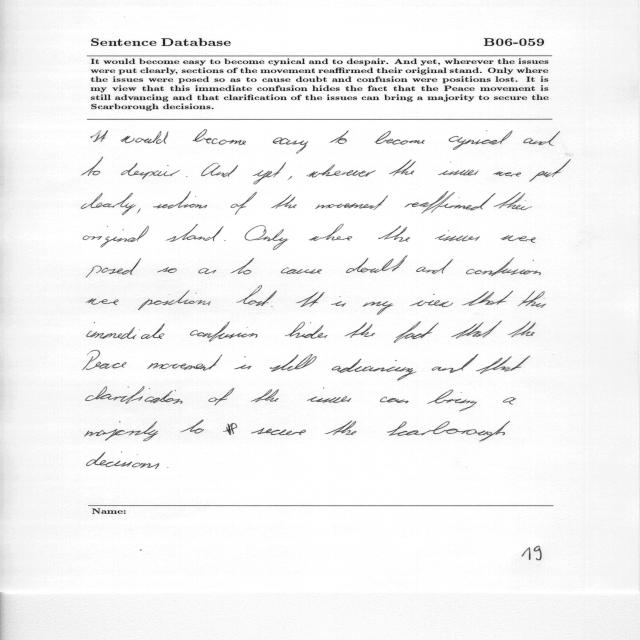word: (387, 421, 510, 441), (405, 191, 496, 214), (332, 359, 416, 381), (86, 386, 183, 404), (138, 290, 211, 310), (85, 421, 158, 441), (466, 258, 541, 277), (83, 226, 149, 247), (190, 322, 258, 342), (87, 322, 165, 339), (449, 130, 513, 150), (87, 452, 159, 469), (81, 193, 136, 215), (147, 355, 222, 371), (245, 225, 289, 250), (165, 224, 224, 242), (346, 256, 408, 273), (427, 390, 477, 411), (86, 258, 141, 277), (315, 196, 388, 210), (394, 321, 439, 343), (153, 191, 207, 209), (476, 356, 530, 374), (529, 159, 571, 182), (121, 163, 180, 179), (451, 321, 502, 339), (306, 165, 376, 178), (83, 350, 127, 370), (432, 354, 478, 373), (236, 285, 277, 306), (193, 130, 246, 145), (270, 354, 316, 371), (462, 291, 513, 306), (253, 162, 286, 185), (309, 224, 352, 241), (285, 322, 327, 339), (494, 192, 532, 210), (374, 131, 425, 144), (307, 388, 351, 403), (121, 131, 169, 144), (230, 192, 257, 215), (273, 137, 308, 154), (438, 162, 478, 176), (410, 294, 453, 307), (524, 131, 561, 146), (416, 259, 453, 274), (378, 225, 410, 242), (201, 163, 238, 177), (344, 322, 375, 338), (435, 230, 480, 241), (325, 421, 357, 436), (518, 291, 546, 308), (389, 160, 416, 177), (508, 322, 536, 338), (209, 388, 235, 405), (296, 292, 324, 307), (363, 301, 393, 315), (82, 157, 103, 176), (251, 428, 306, 435), (230, 258, 254, 274), (271, 195, 297, 209), (251, 390, 279, 403), (180, 420, 204, 433), (500, 235, 536, 243), (281, 267, 322, 274), (330, 130, 349, 144), (234, 356, 252, 369), (86, 298, 119, 305), (91, 130, 108, 142), (380, 397, 409, 404), (223, 423, 237, 435), (494, 172, 522, 177), (157, 267, 177, 273), (199, 268, 217, 274), (503, 397, 516, 405), (331, 301, 346, 307), (288, 176, 292, 180), (137, 209, 140, 214), (271, 306, 273, 307), (186, 176, 187, 177), (224, 240, 225, 241), (137, 454, 138, 455)
